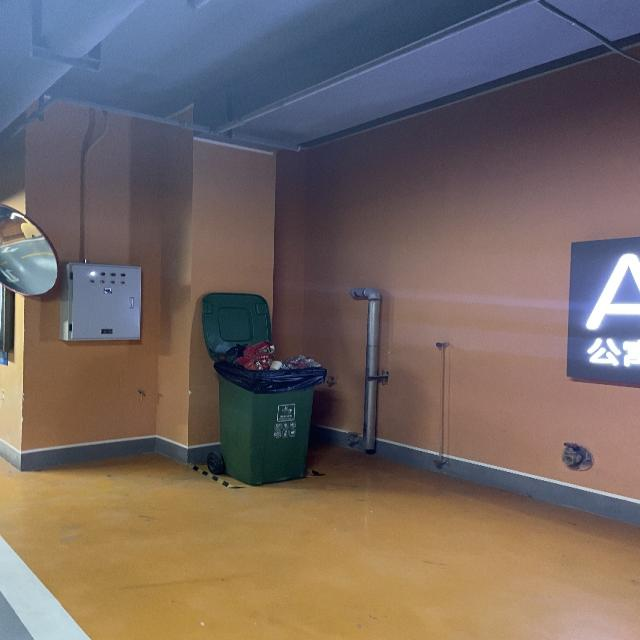overflow: (212, 340, 326, 485)
